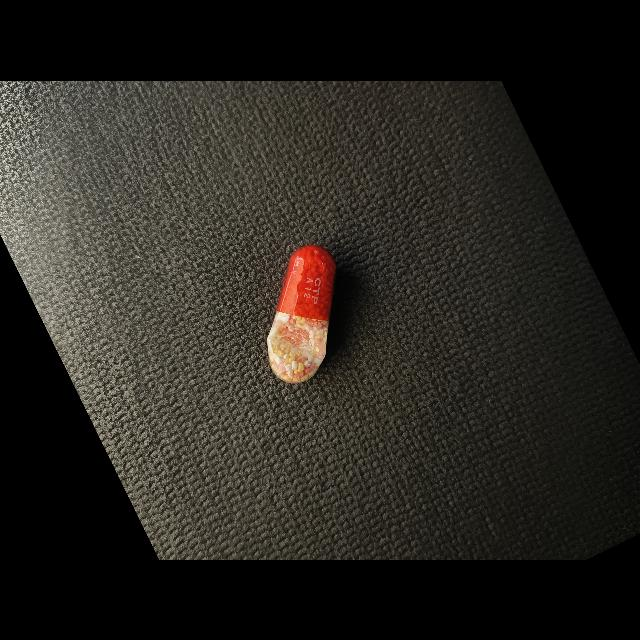Defective Capsule: (267, 244, 336, 383)
